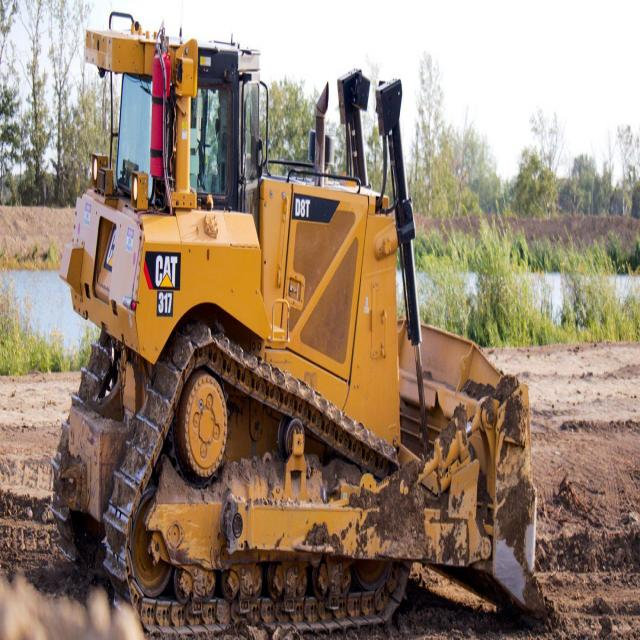Bulldozer: (41, 0, 560, 639)
